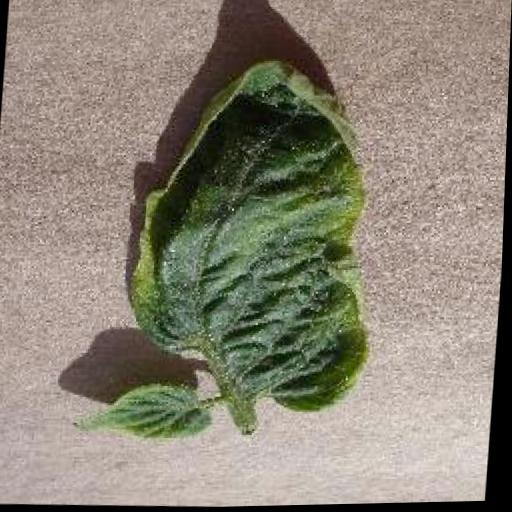Yellow Leaf Curl Virus: (120, 49, 392, 422), (74, 376, 219, 444)
